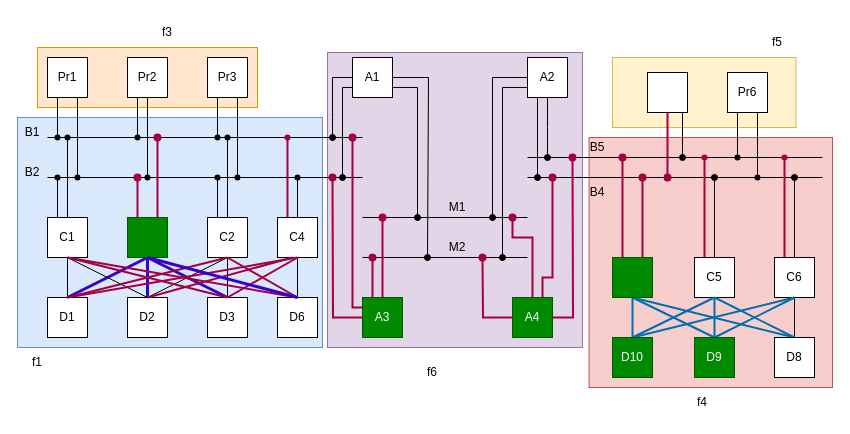
This 850x434 diagram has some shape labels left out. The box of each missing label's shape, as (x1, y1, x2, y2) in pixels:
Pr5: (646, 72, 688, 112)
С7: (612, 256, 652, 298)
С8: (126, 216, 168, 258)
